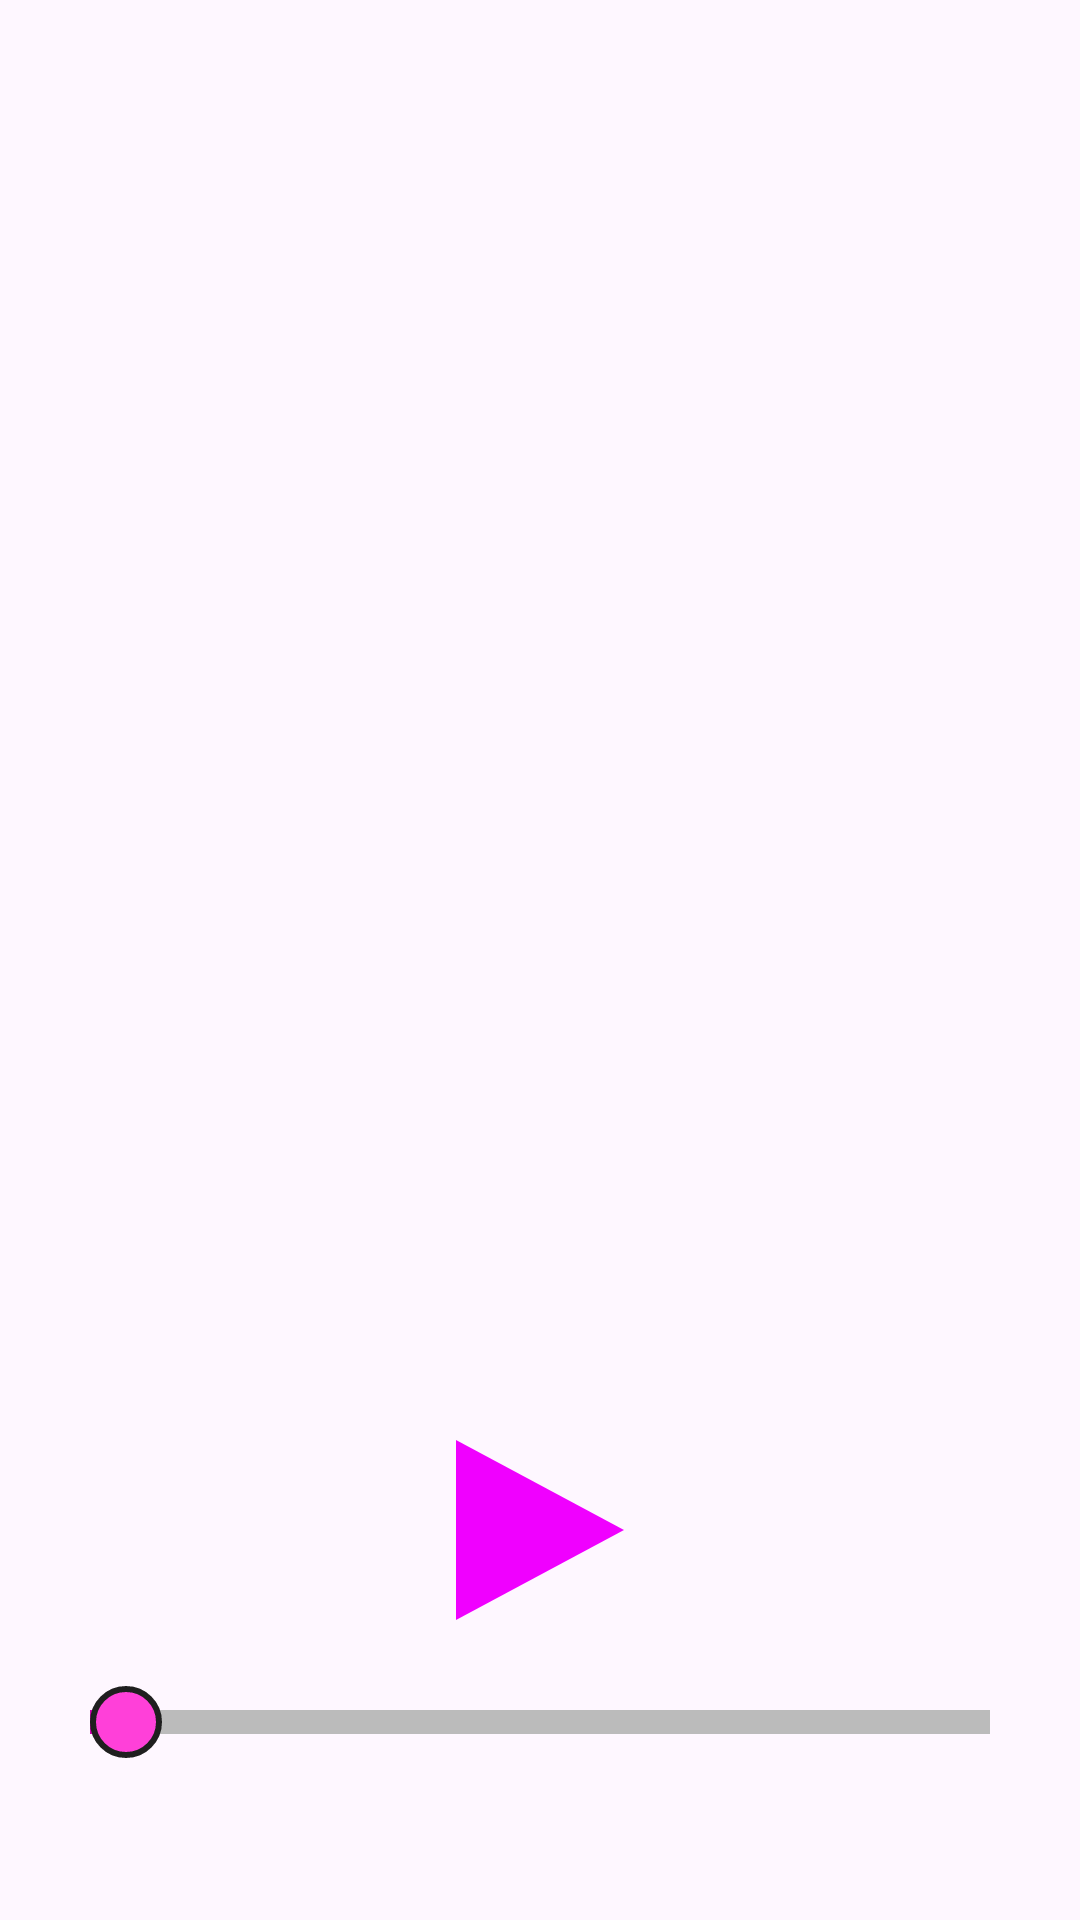

Screen size 1080 x 1920. Icon name, then its box in pixels as (x1, y1, x2, y2):
Play: (456, 1440, 624, 1620)
